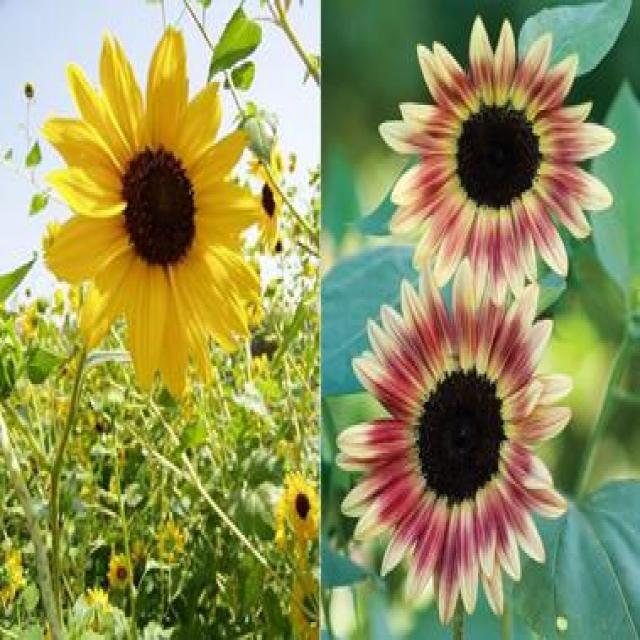sunflower: (39, 21, 262, 400), (280, 466, 326, 543), (257, 168, 283, 255), (106, 545, 134, 589)
